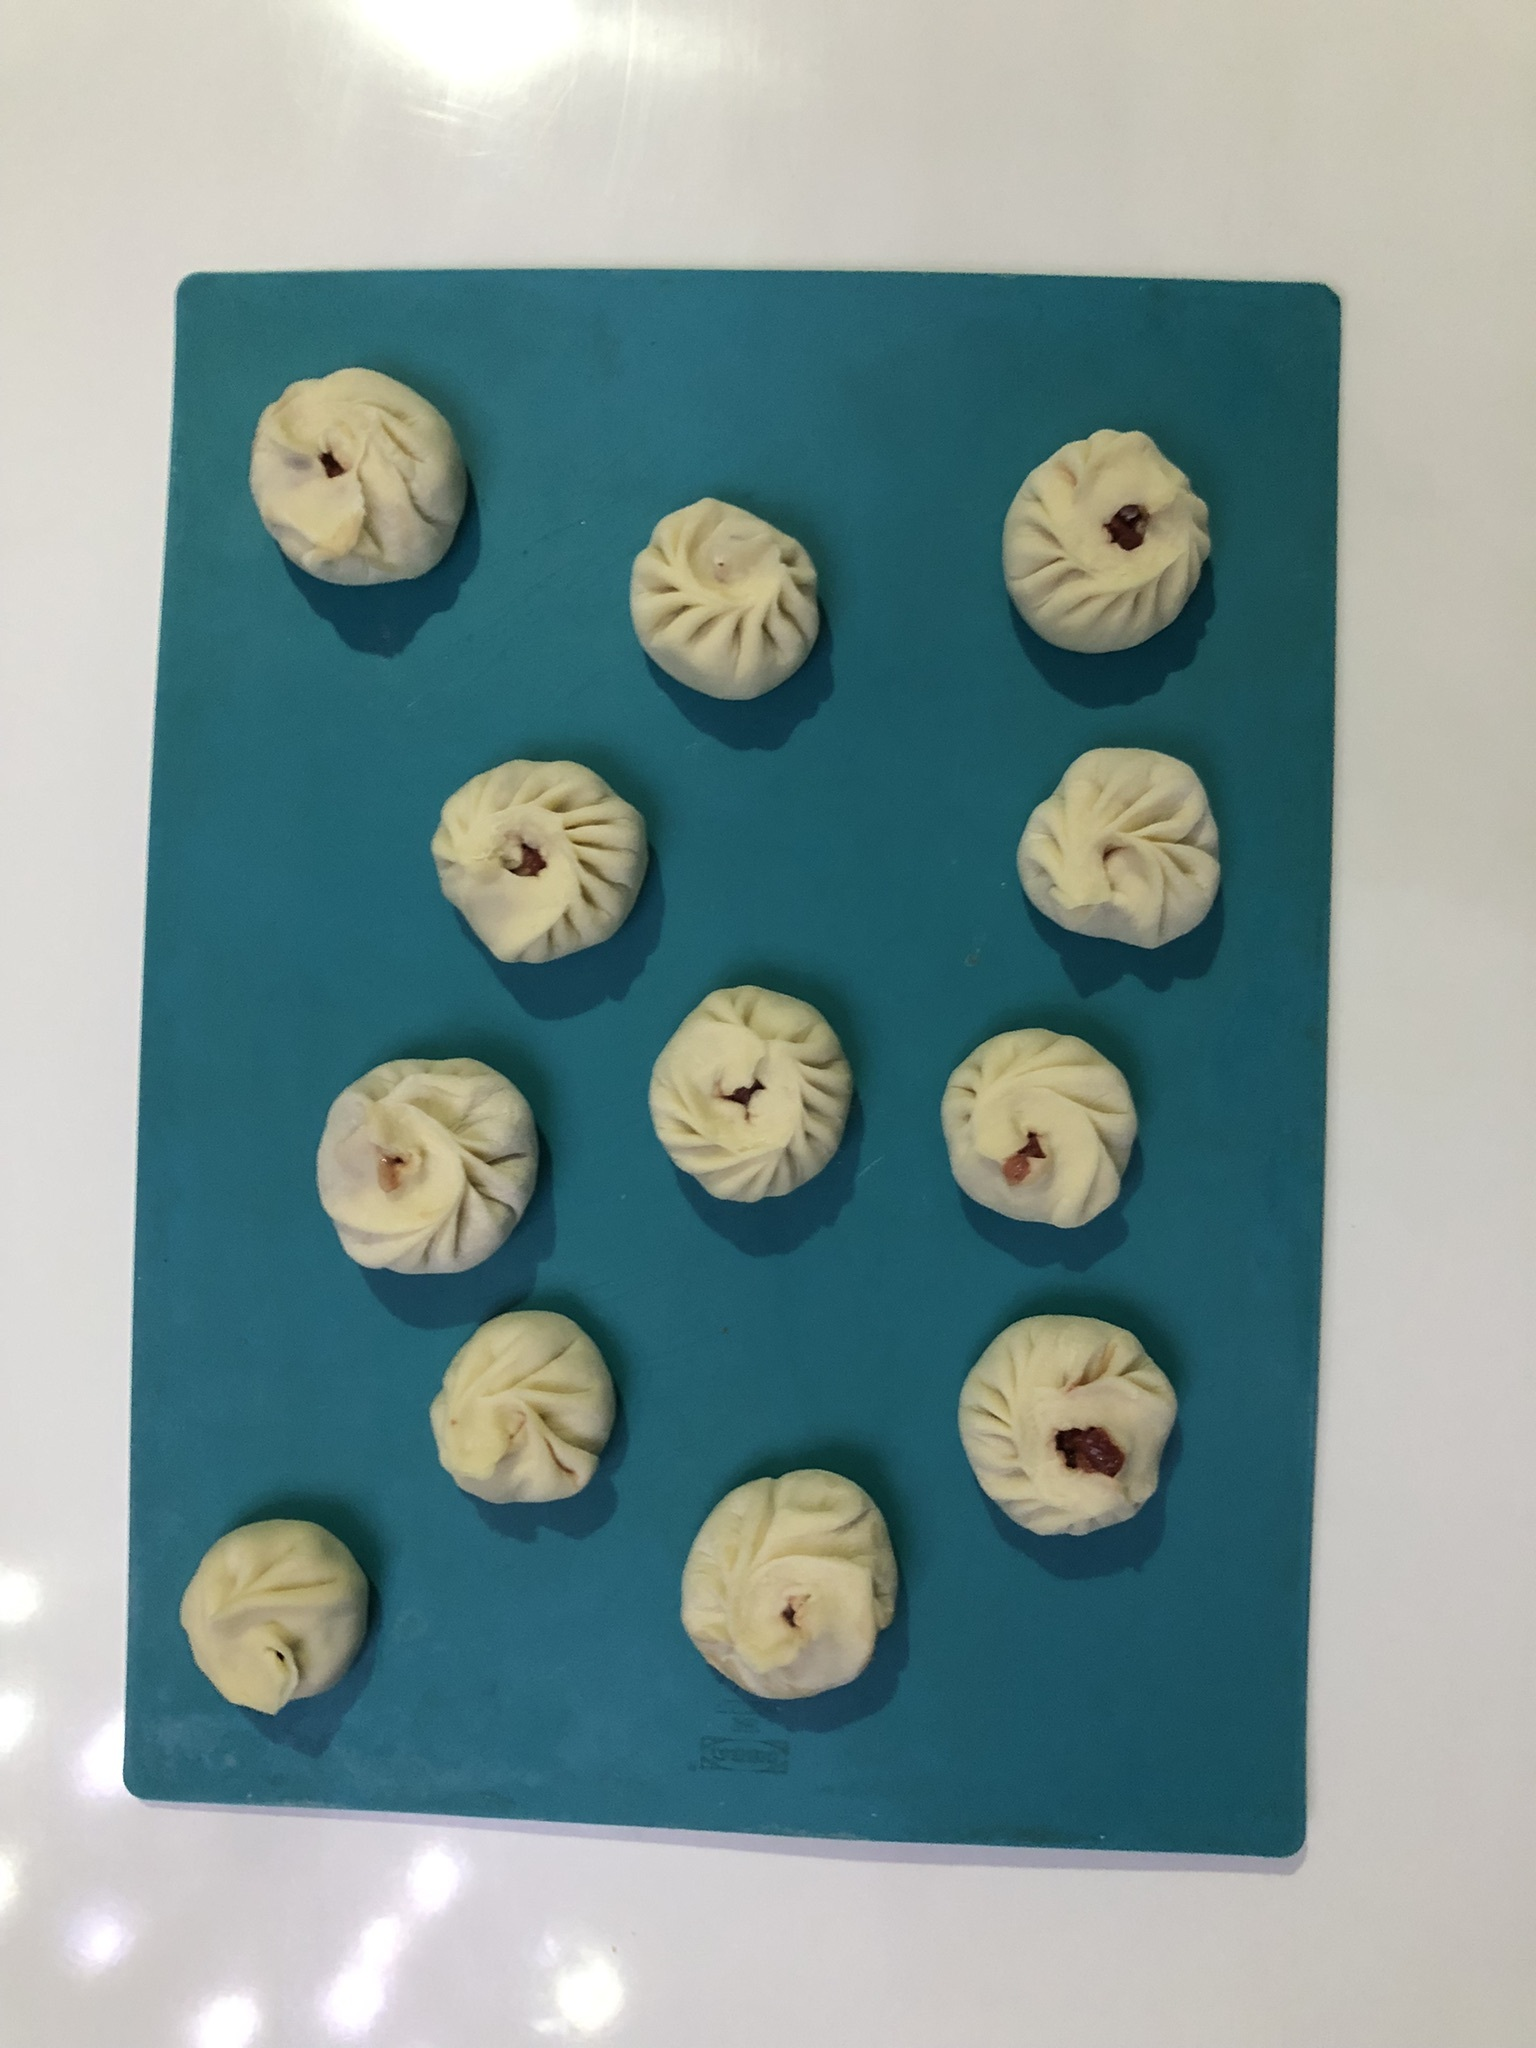buuz: (665, 1458, 907, 1709), (303, 1050, 552, 1292), (949, 1301, 1187, 1551), (987, 418, 1226, 664), (242, 358, 482, 597), (423, 751, 666, 974), (636, 980, 862, 1218), (1007, 734, 1234, 964), (165, 1506, 397, 1732), (923, 1018, 1146, 1242), (620, 489, 836, 714), (408, 1300, 620, 1513)
